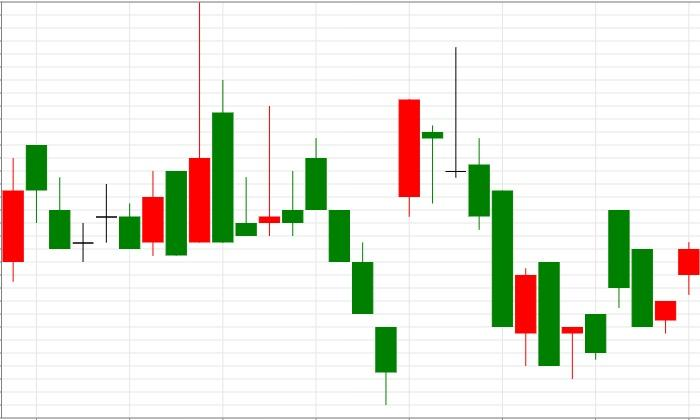three_black_crows_fall: (165, 1, 374, 314)
